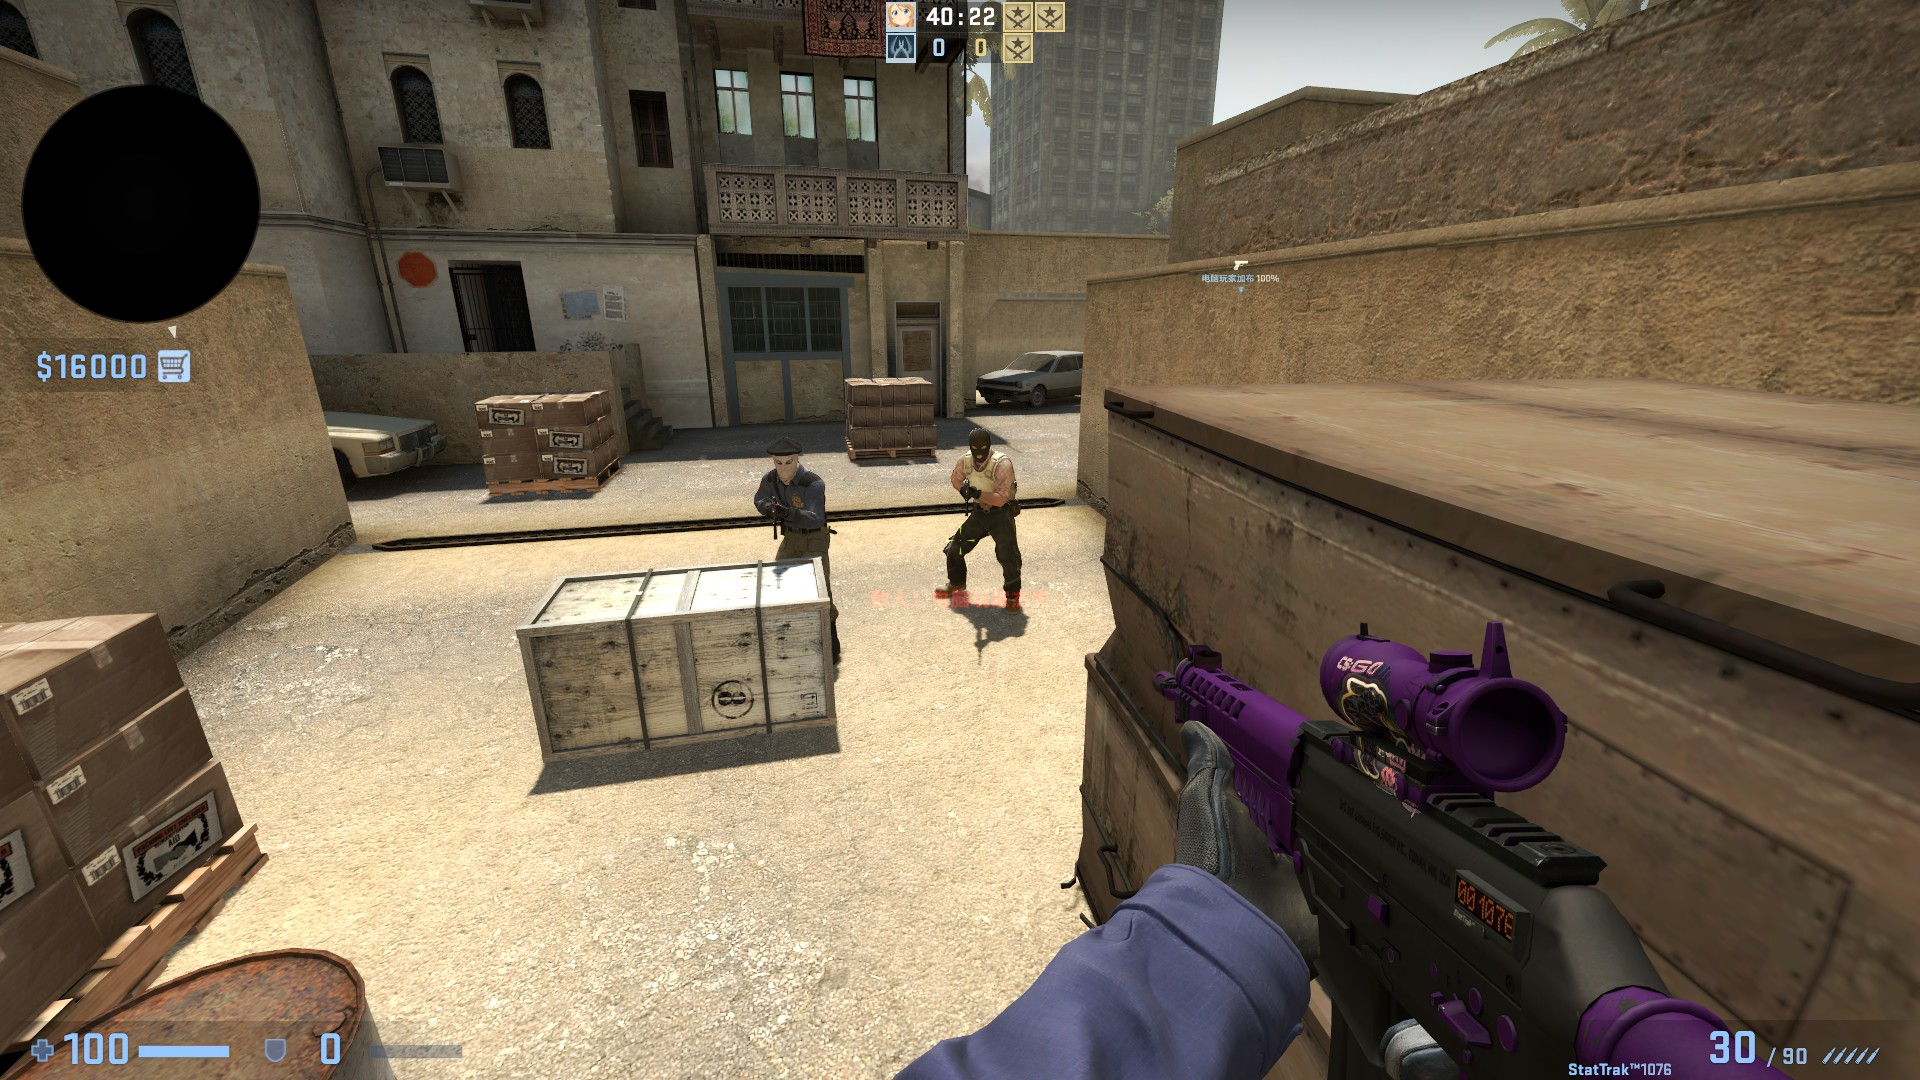head: (763, 436, 808, 486), (963, 425, 992, 469)
